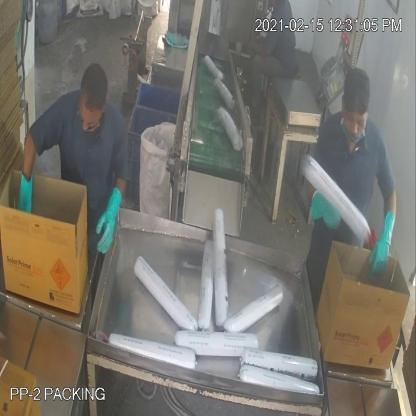glove: (85, 176, 129, 268), (366, 199, 402, 281)
no_glove: (241, 29, 279, 69)
